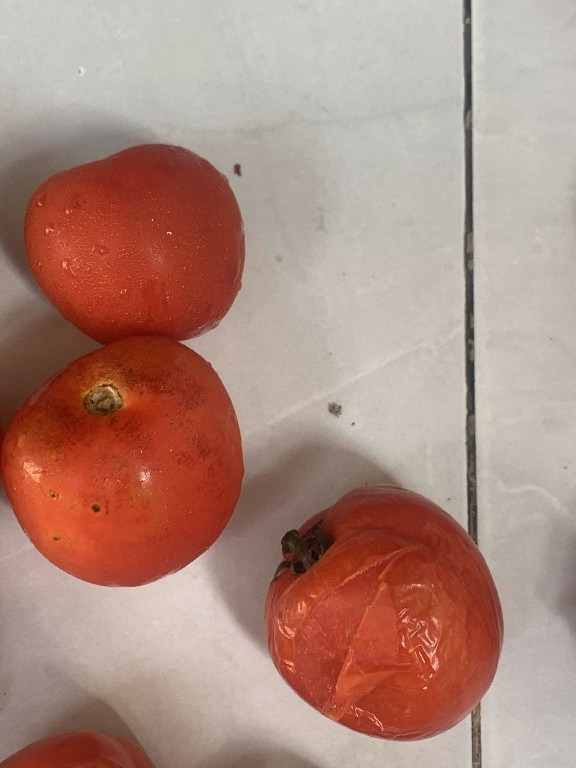NG: (5, 324, 250, 587), (265, 470, 504, 737)
OK: (16, 133, 253, 338)
